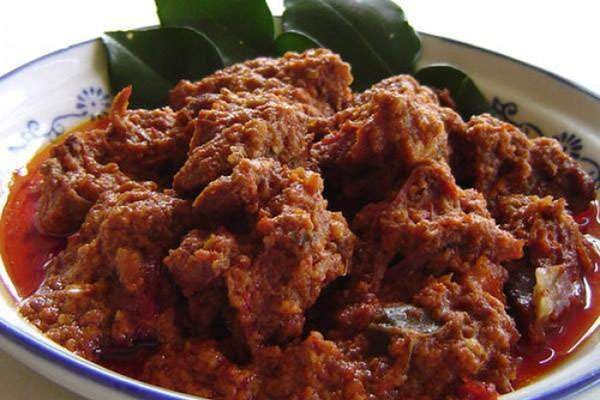rendang: (27, 62, 579, 394)
